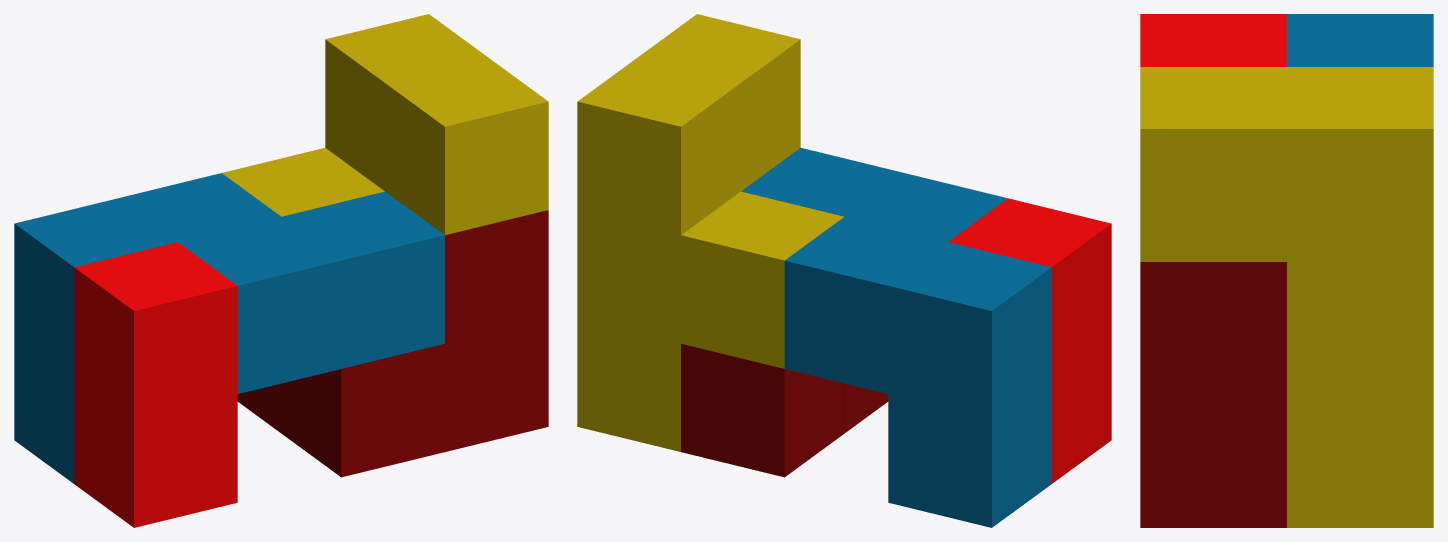
3 views of the same model, side by side, from view 1: azimuth 30°, elevation 25°; view 2: azimuth 150°, elevation 25°; view 3: azimuth 270°, elevation 25° (orthographic). The views are drawn at different scales.
Parts seen in each view (by area): view 1: mergedBlocks(Clone); view 2: mergedBlocks(Clone); view 3: mergedBlocks(Clone).
Part boxes in pixels (x1,y1,x2,y2): mergedBlocks(Clone): (14, 14, 548, 527); mergedBlocks(Clone): (577, 14, 1111, 527); mergedBlocks(Clone): (1140, 14, 1433, 527).
Bounding box in the file's own units: 4 × 3 × 2.
4 materials, 4 textured.
